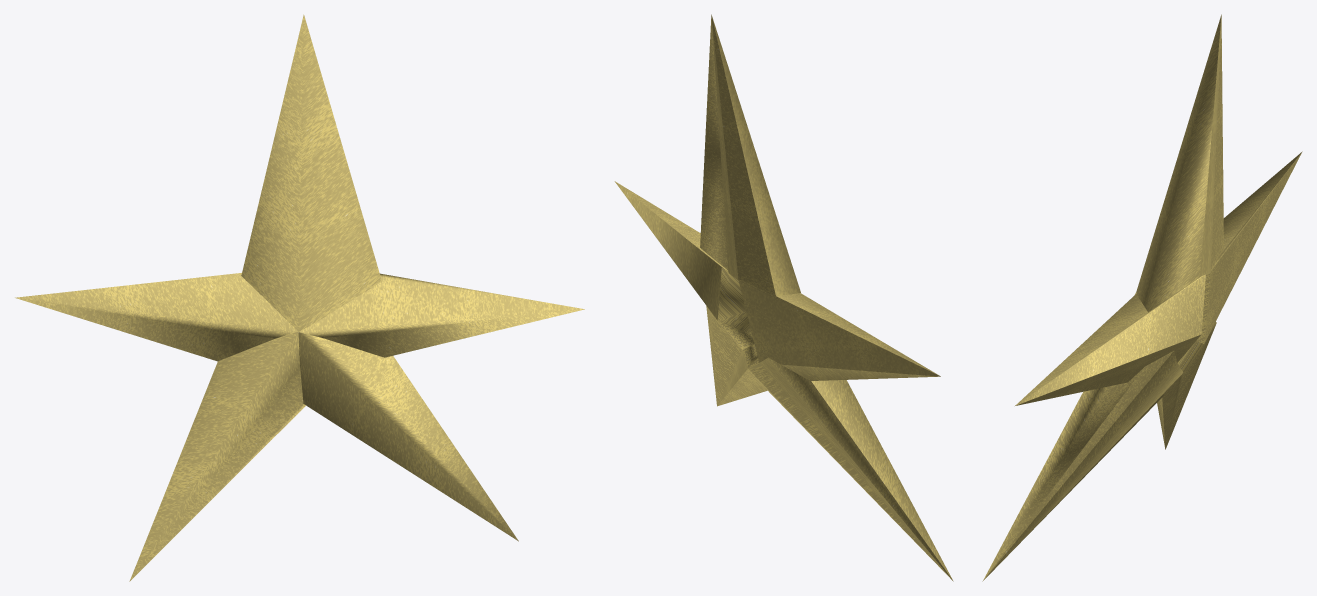
Rendered from star5.obj.
3 renders of one model, left to right at view 1: azimuth 30°, elevation 25°; view 2: azimuth 150°, elevation 25°; view 3: azimuth 270°, elevation 25°, orthographic. The views are drawn at different scales.
Parts seen in each view (by area): view 1: star4:pCone23 group; view 2: star4:pCone23 group; view 3: star4:pCone23 group.
Boxes of the visible parts, x1,y1,x2,y2 form: star4:pCone23 group: (15, 14, 584, 581); star4:pCone23 group: (614, 14, 953, 581); star4:pCone23 group: (982, 14, 1302, 581).
Bounding box in the file's own units: 4.29 × 4.67 × 2.5.
Materials: 1 (1 with a texture image).
